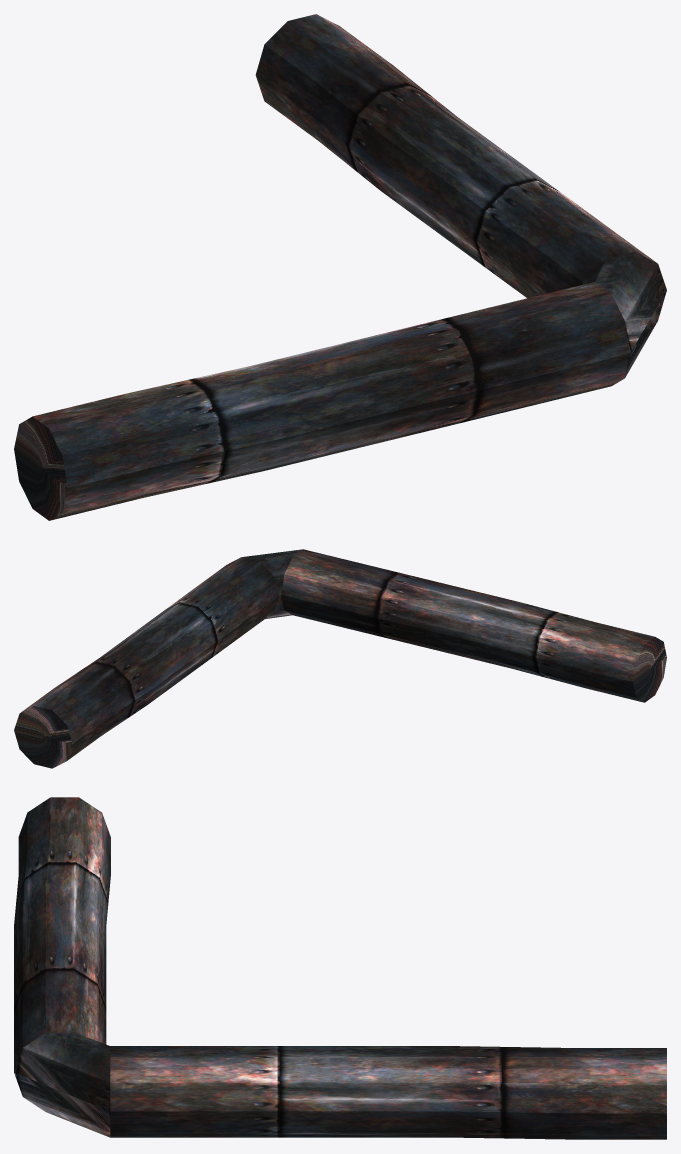
File: pipe_misc_model.fbx
3 views of the same model, one above another, from view 1: azimuth 30°, elevation 25°; view 2: azimuth 150°, elevation 25°; view 3: azimuth 270°, elevation 25° (orthographic). The views are drawn at different scales.
Parts seen in each view (by area): view 1: pCylinder23; view 2: pCylinder23; view 3: pCylinder23.
Part boxes in pixels (x1=…): pCylinder23: x1=14, y1=14, x2=666, y2=520; pCylinder23: x1=14, y1=549, x2=666, y2=768; pCylinder23: x1=14, y1=797, x2=666, y2=1139.
Bounding box in the file's own units: 0.1417 × 0.019 × 0.1415.
